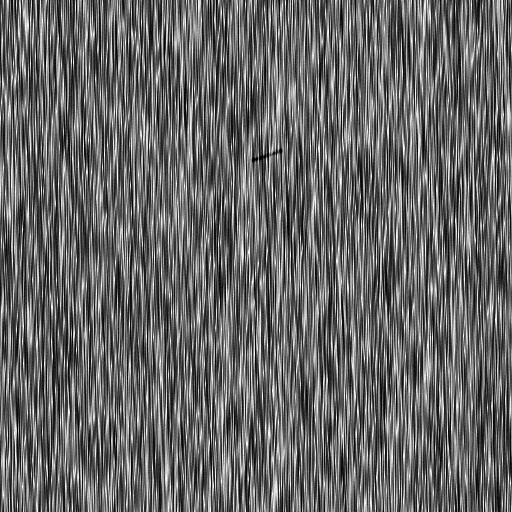DefectTypeC: (247, 146, 289, 165)
